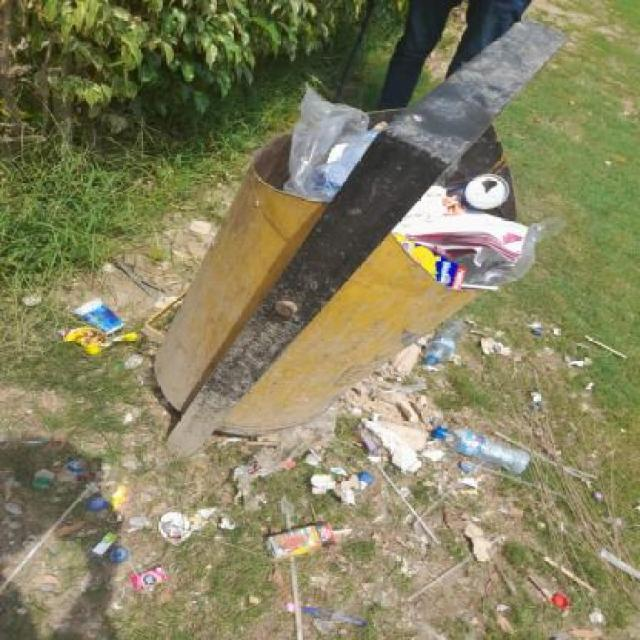garbage: (9, 440, 640, 640), (256, 88, 560, 294), (326, 315, 640, 440), (62, 296, 165, 359)
